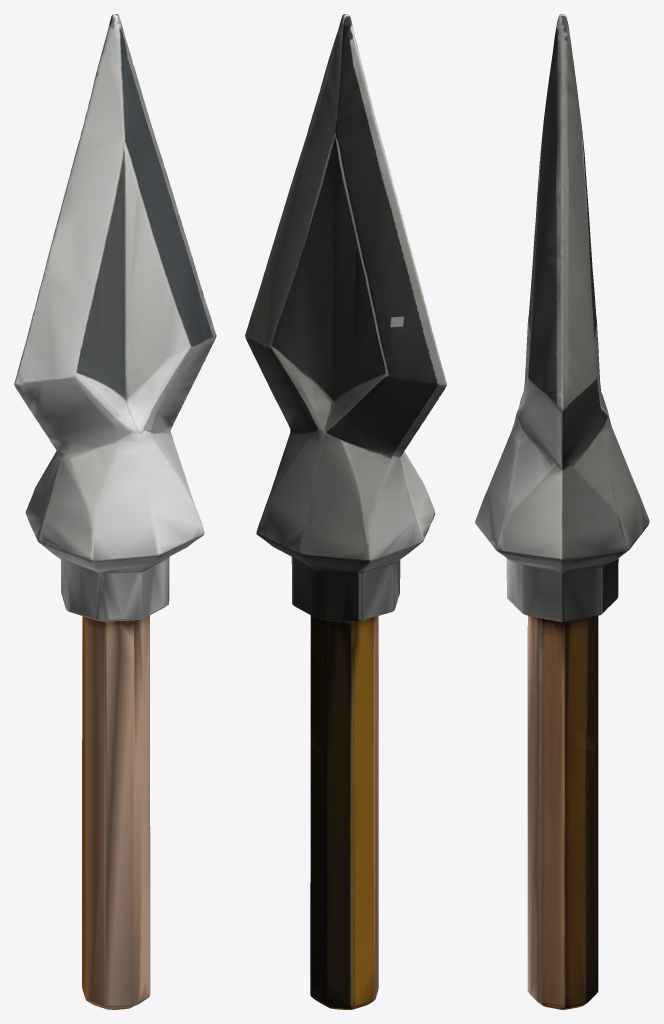
Rendered from war-room-spear.glb.
3 renders of one model, left to right at view 1: azimuth 30°, elevation 25°; view 2: azimuth 150°, elevation 25°; view 3: azimuth 270°, elevation 25°, orthographic.
Parts seen in each view (by area): view 1: Spear; view 2: Spear; view 3: Spear.
Boxes of the visible parts, x1,y1,x2,y2 form: Spear: [14, 14, 216, 1009]; Spear: [245, 14, 446, 1009]; Spear: [475, 14, 649, 1009].
Bounding box in the file's own units: 0.1499 × 0.7 × 0.1123.
Materials: 1 (1 with a texture image).
